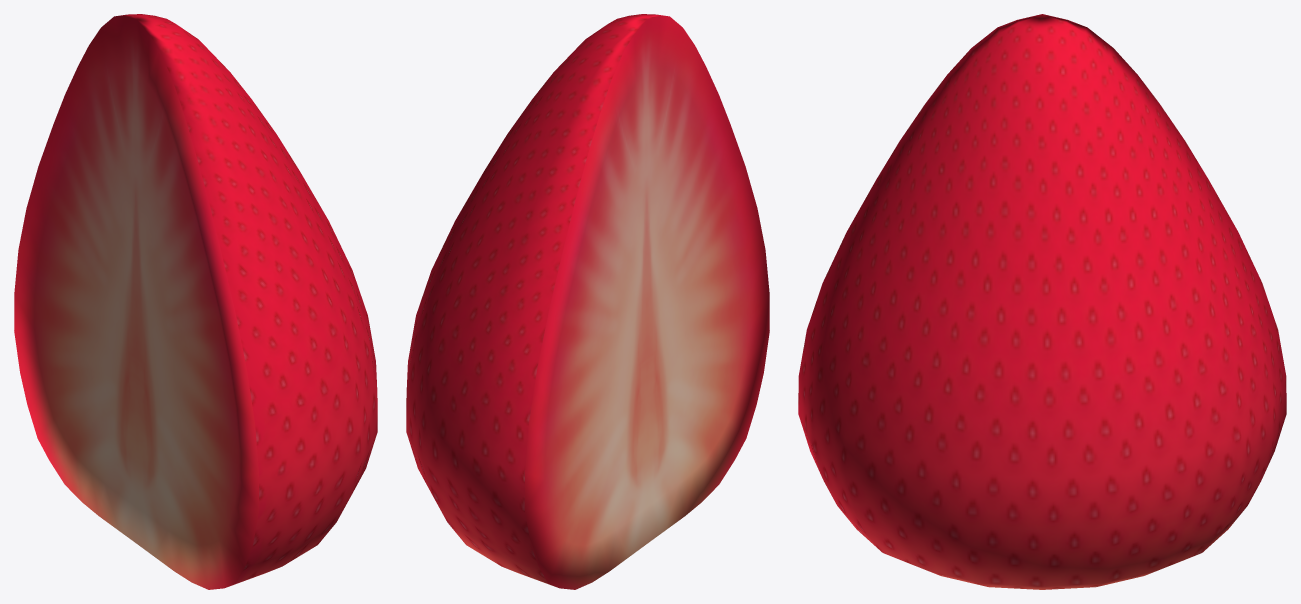
Rendered from Strawberry_side02.fbx.
3 renders of one model, left to right at view 1: azimuth 30°, elevation 25°; view 2: azimuth 150°, elevation 25°; view 3: azimuth 270°, elevation 25°, orthographic.
Parts seen in each view (by area): view 1: Strawberry_side; view 2: Strawberry_side; view 3: Strawberry_side.
Part boxes in pixels (<box>): Strawberry_side: <box>14,14,377,589</box>; Strawberry_side: <box>406,14,769,589</box>; Strawberry_side: <box>798,14,1286,589</box>.
Bounding box in the file's own units: 74.61 × 178 × 151.
1 material, 1 textured.
